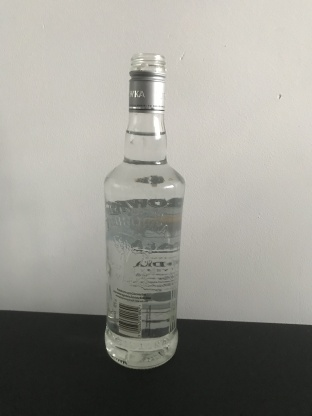nakretka: (126, 52, 167, 114)
